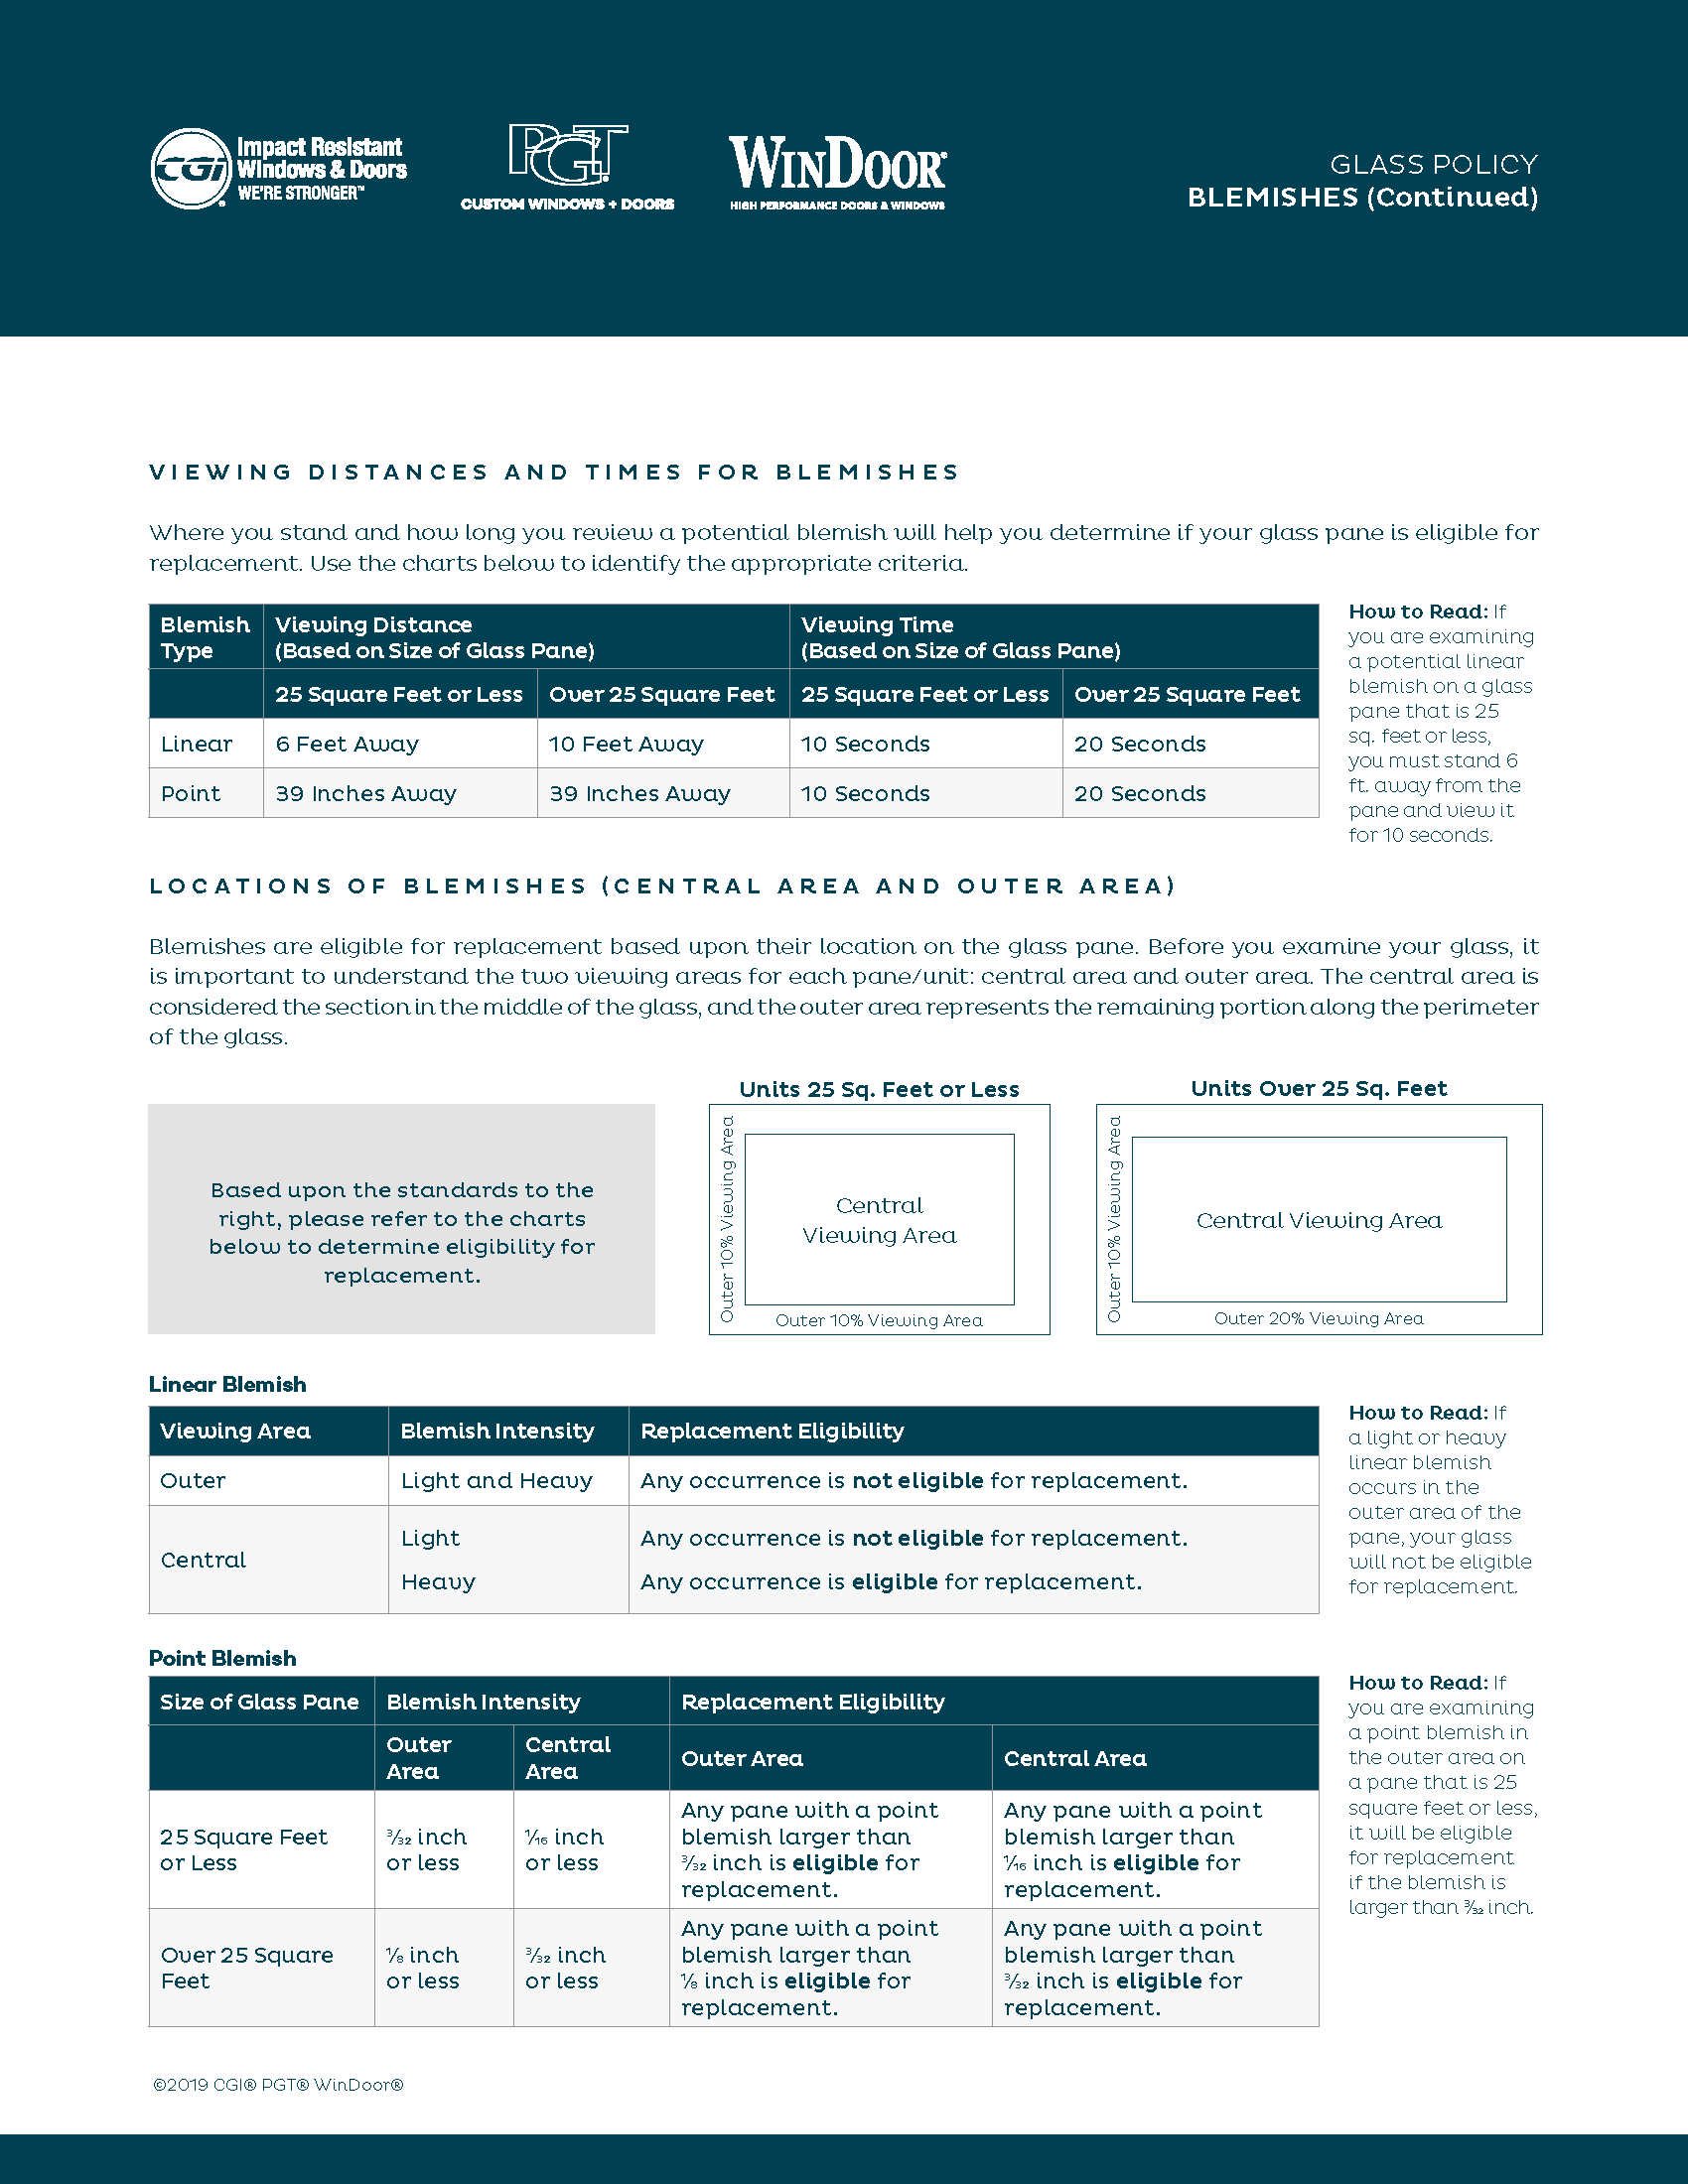tabledetected: (151, 1677, 1317, 2023), (152, 606, 1319, 819), (151, 1409, 1317, 1611)
